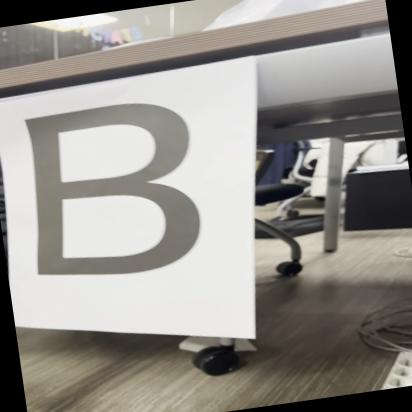seat: (0, 82, 241, 301)
